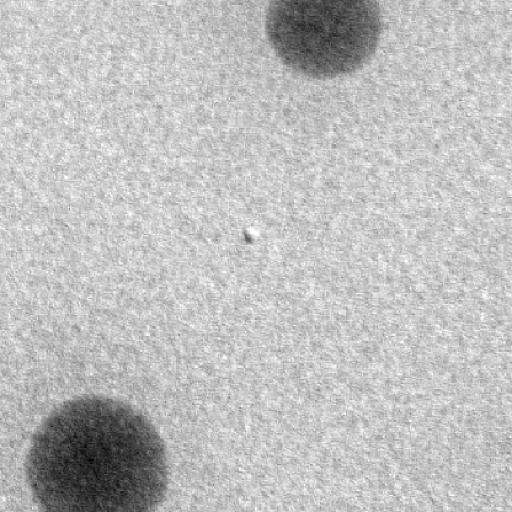Nanoparticles: (24, 393, 169, 512), (265, 0, 379, 79)
